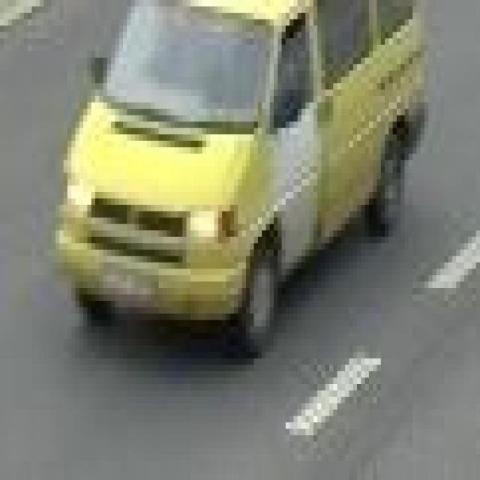van: (61, 0, 422, 352)
